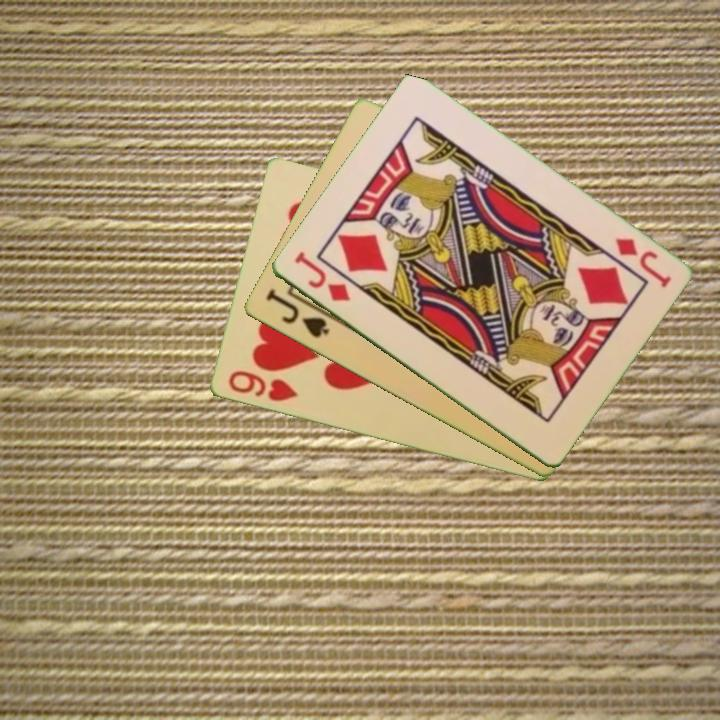9h: (224, 367, 300, 405)
Jd: (290, 247, 353, 305), (611, 234, 674, 292)
Js: (261, 285, 332, 341)
